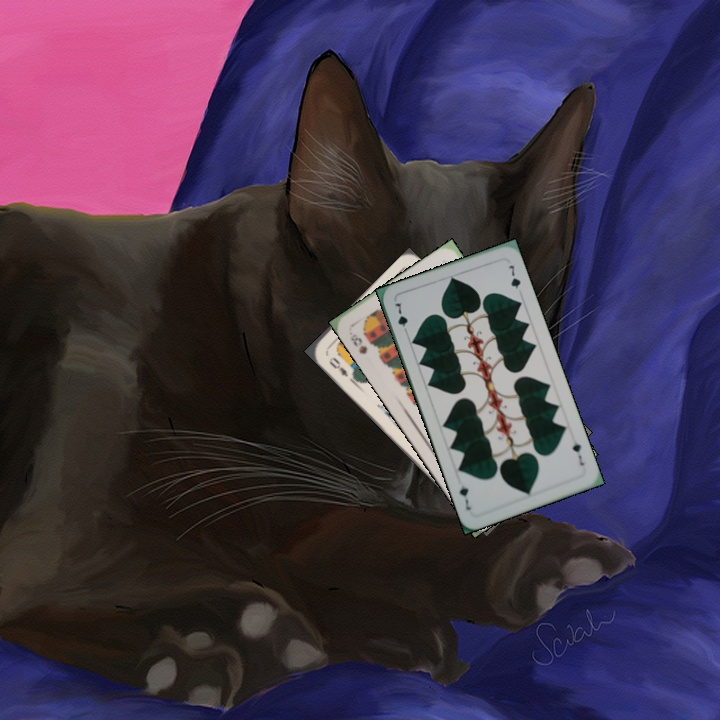EO: (325, 353, 351, 380)
G7: (390, 298, 411, 337), (568, 439, 587, 468)
S8: (346, 329, 370, 357)
